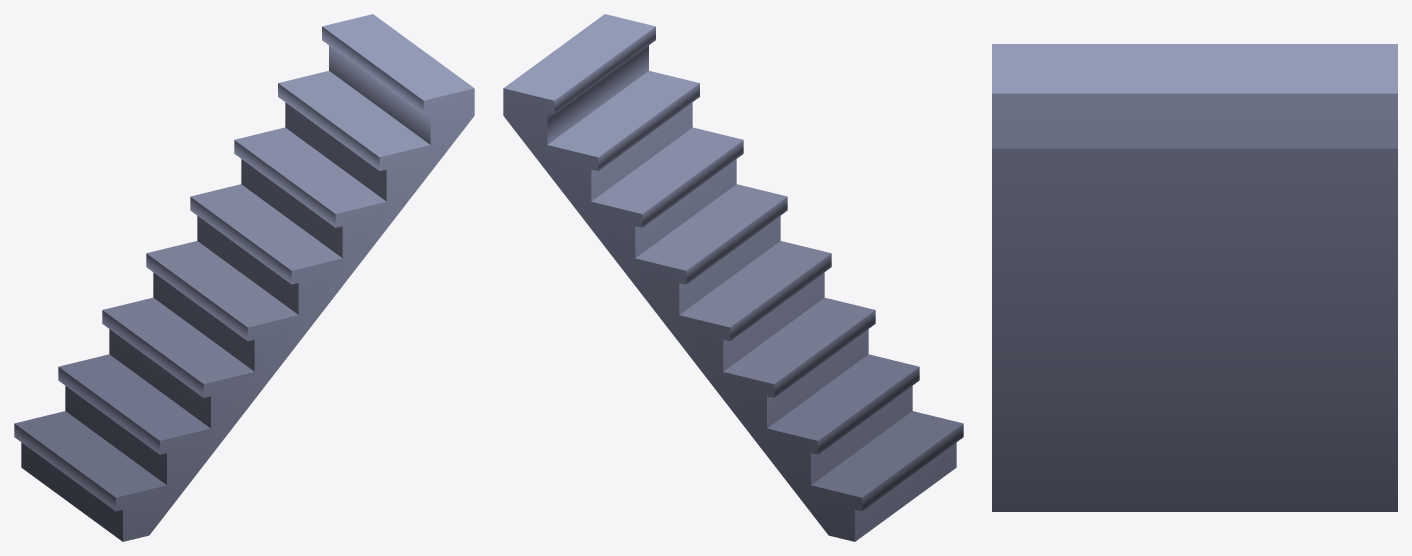
File: T_stairs-stone.glb
3 views of the same model, side by side, from view 1: azimuth 30°, elevation 25°; view 2: azimuth 150°, elevation 25°; view 3: azimuth 270°, elevation 25° (orthographic). The views are drawn at different scales.
Parts seen in each view (by area): view 1: stairs-stone; view 2: stairs-stone; view 3: stairs-stone.
Boxes of the visible parts, x1,y1,x2,y2 form: stairs-stone: (14,14,474,541); stairs-stone: (503,14,963,541); stairs-stone: (992,44,1397,511).
Bounding box in the file's own units: 1.02 × 1 × 0.5.
